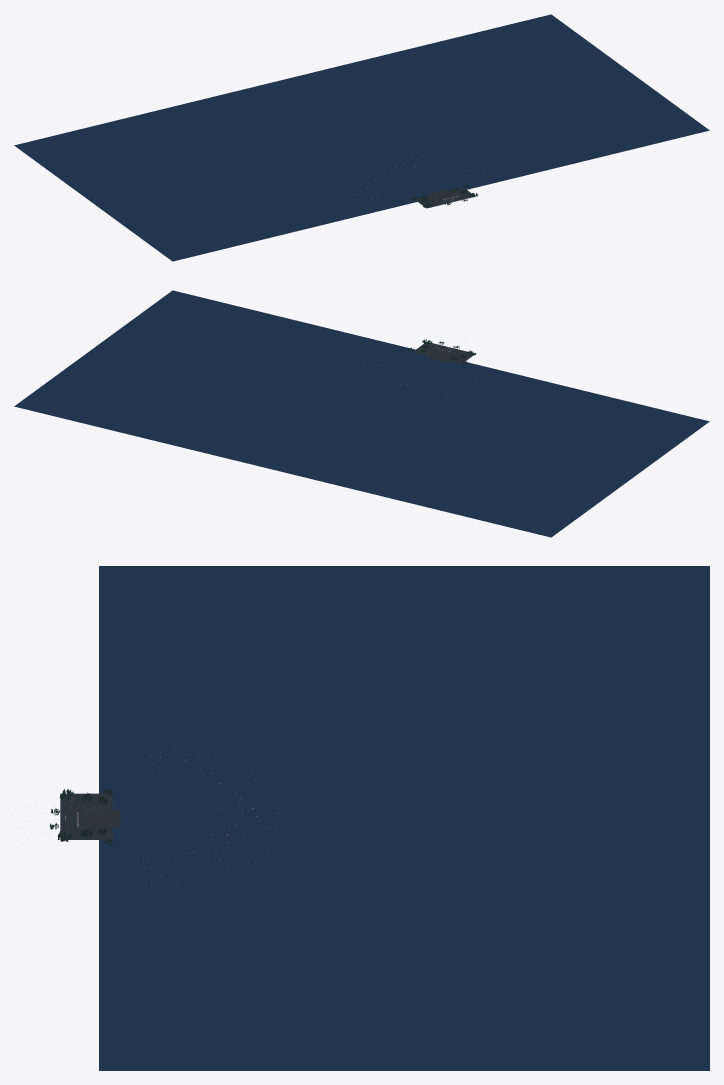
File: scenery.glb
The picture shows the model from 3 angles, top to bottom: view 1: azimuth 30°, elevation 25°; view 2: azimuth 150°, elevation 25°; view 3: azimuth 270°, elevation 25°; orthographic projection. The views are drawn at different scales.
Visible parts, largest first — view 1: Water, Terrain; view 2: Water, Terrain; view 3: Water, Terrain.
Boxes of the visible parts, box(x1,y1,x2,y2) form: Water: box(14, 14, 709, 261); Terrain: box(415, 187, 475, 208); Water: box(14, 290, 709, 537); Terrain: box(413, 342, 474, 364); Water: box(99, 566, 709, 1070); Terrain: box(60, 793, 120, 841).
Bounding box in the file's own units: 5200 × 65.75 × 3030.
